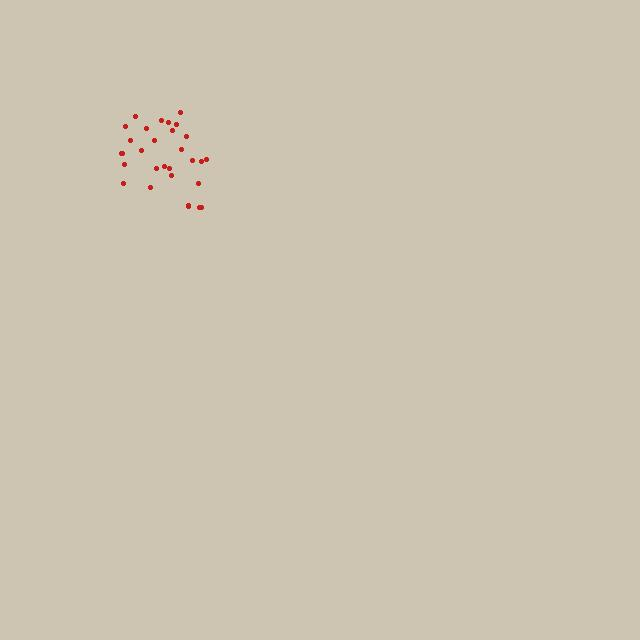abrasion: (119, 105, 207, 210)
